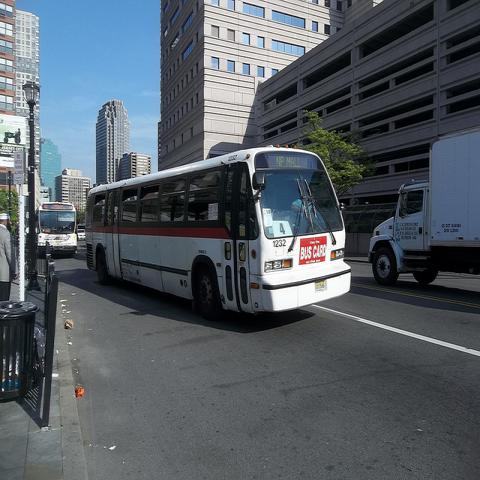bus: (84, 144, 354, 326), (35, 202, 77, 257)
car: (76, 223, 85, 241)
truck: (364, 125, 478, 290)
